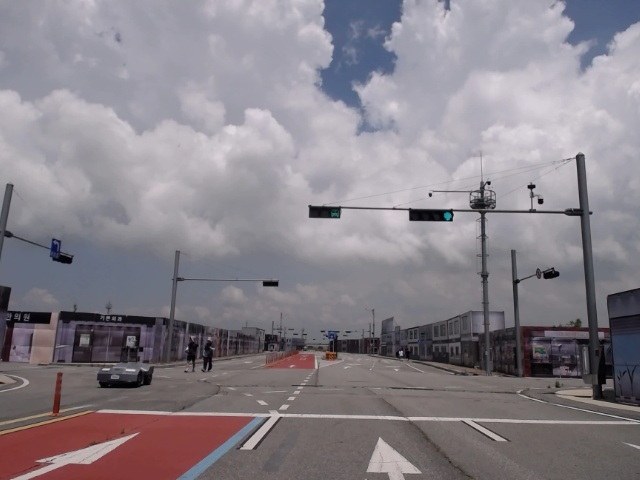straight_green_4: (409, 210, 455, 221)
